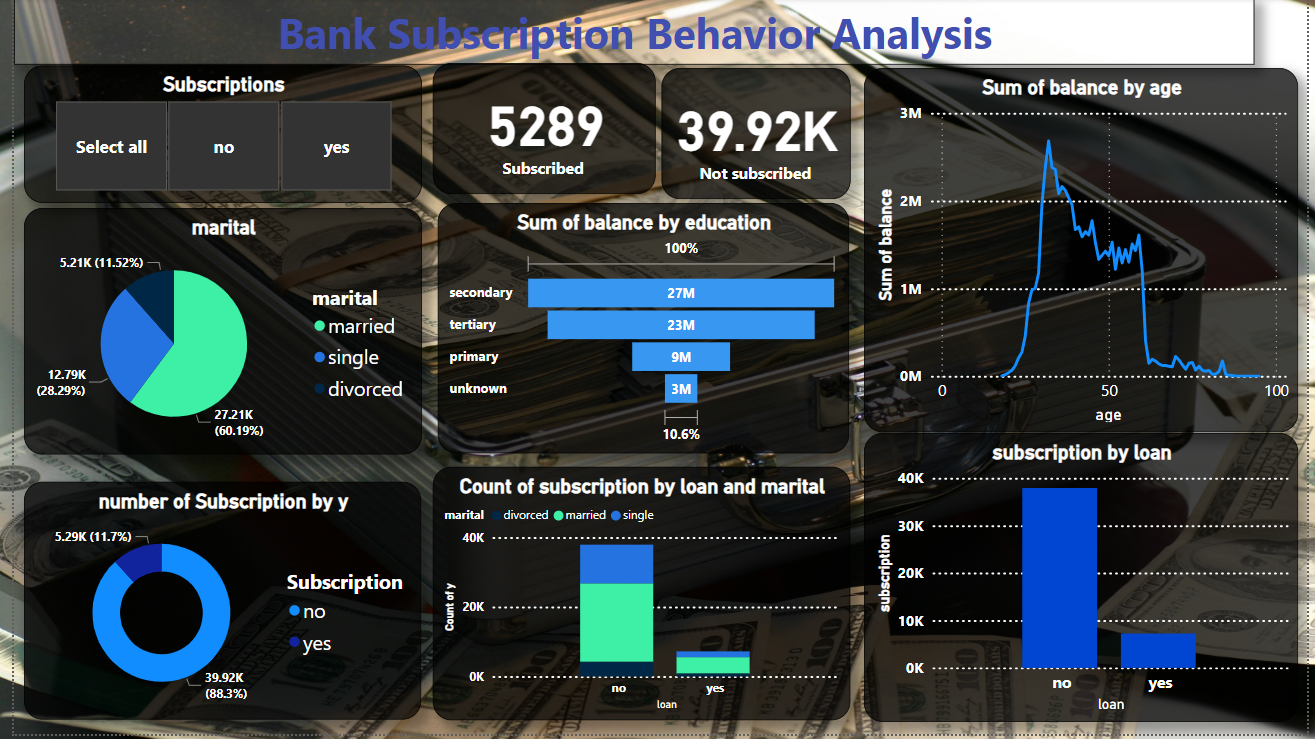

The page's visual inventory and layout, read from the dashboard file:
{"tool":"powerbi","page":{"name":"Page 1","canvas":[1318,750],"ordinal":0},"visuals":[{"type":"pieChart","title":" marital","fields":{"Y":["CountNonNull(bank_dataset.marital)"],"Category":["bank_dataset.marital"]},"box":[10.4,213.9,405.6,251.1],"z":0},{"type":"funnel","fields":{"Category":["bank_dataset.education"],"Y":["Sum(bank_dataset.balance)"]},"box":[432.3,209.5,418.9,255.5],"z":1},{"type":"textbox","box":[0,0,1263.9,67.8],"z":2},{"type":"donutChart","fields":{"Y":["CountNonNull(bank_dataset.y)"],"Category":["bank_dataset.y"]},"box":[10.2,493,405.1,242],"z":3},{"type":"columnChart","fields":{"Category":["bank_dataset.loan"],"Y":["CountNonNull(bank_dataset.y)"]},"box":[866.1,442.7,442.7,294.1],"z":4},{"type":"lineChart","fields":{"Category":["bank_dataset.age"],"Y":["Sum(bank_dataset.balance)"]},"box":[866.1,71.3,442.7,371.4],"z":5},{"type":"columnChart","title":"Count of subscription by loan and marital","fields":{"Category":["bank_dataset.loan"],"Y":["CountNonNull(bank_dataset.y)"],"Series":["bank_dataset.marital"]},"box":[426.7,477.7,425.4,258.6],"z":6},{"type":"slicer","title":"Subscriptions","fields":{"Values":["bank_dataset.y"]},"box":[10.4,68.3,405.6,139.6],"z":7},{"type":"card","fields":{"Values":["CountNonNull(bank_dataset.y)"]},"box":[426.4,66.9,227.3,133.7],"z":8},{"type":"card","fields":{"Values":["CountNonNull(bank_dataset.y)"]},"box":[659.6,71.3,193.1,133.7],"z":9}]}

Visuals, with their boxes in screenshot pixels (x1, y1, x2, y2), scaled from the page's 1318x750 canvas onto the 1315x739 screenshot:
" marital" pieChart: 10:211:415:458
funnel - bank_dataset.education x Sum(bank_dataset.balance): 431:206:849:458
textbox: 0:0:1261:67
donutChart - CountNonNull(bank_dataset.y) x bank_dataset.y: 10:486:414:724
columnChart - bank_dataset.loan x CountNonNull(bank_dataset.y): 864:436:1306:726
lineChart - bank_dataset.age x Sum(bank_dataset.balance): 864:70:1306:436
"Count of subscription by loan and marital" columnChart: 426:471:850:726
"Subscriptions" slicer: 10:67:415:205
card - CountNonNull(bank_dataset.y): 425:66:652:198
card - CountNonNull(bank_dataset.y): 658:70:851:202
